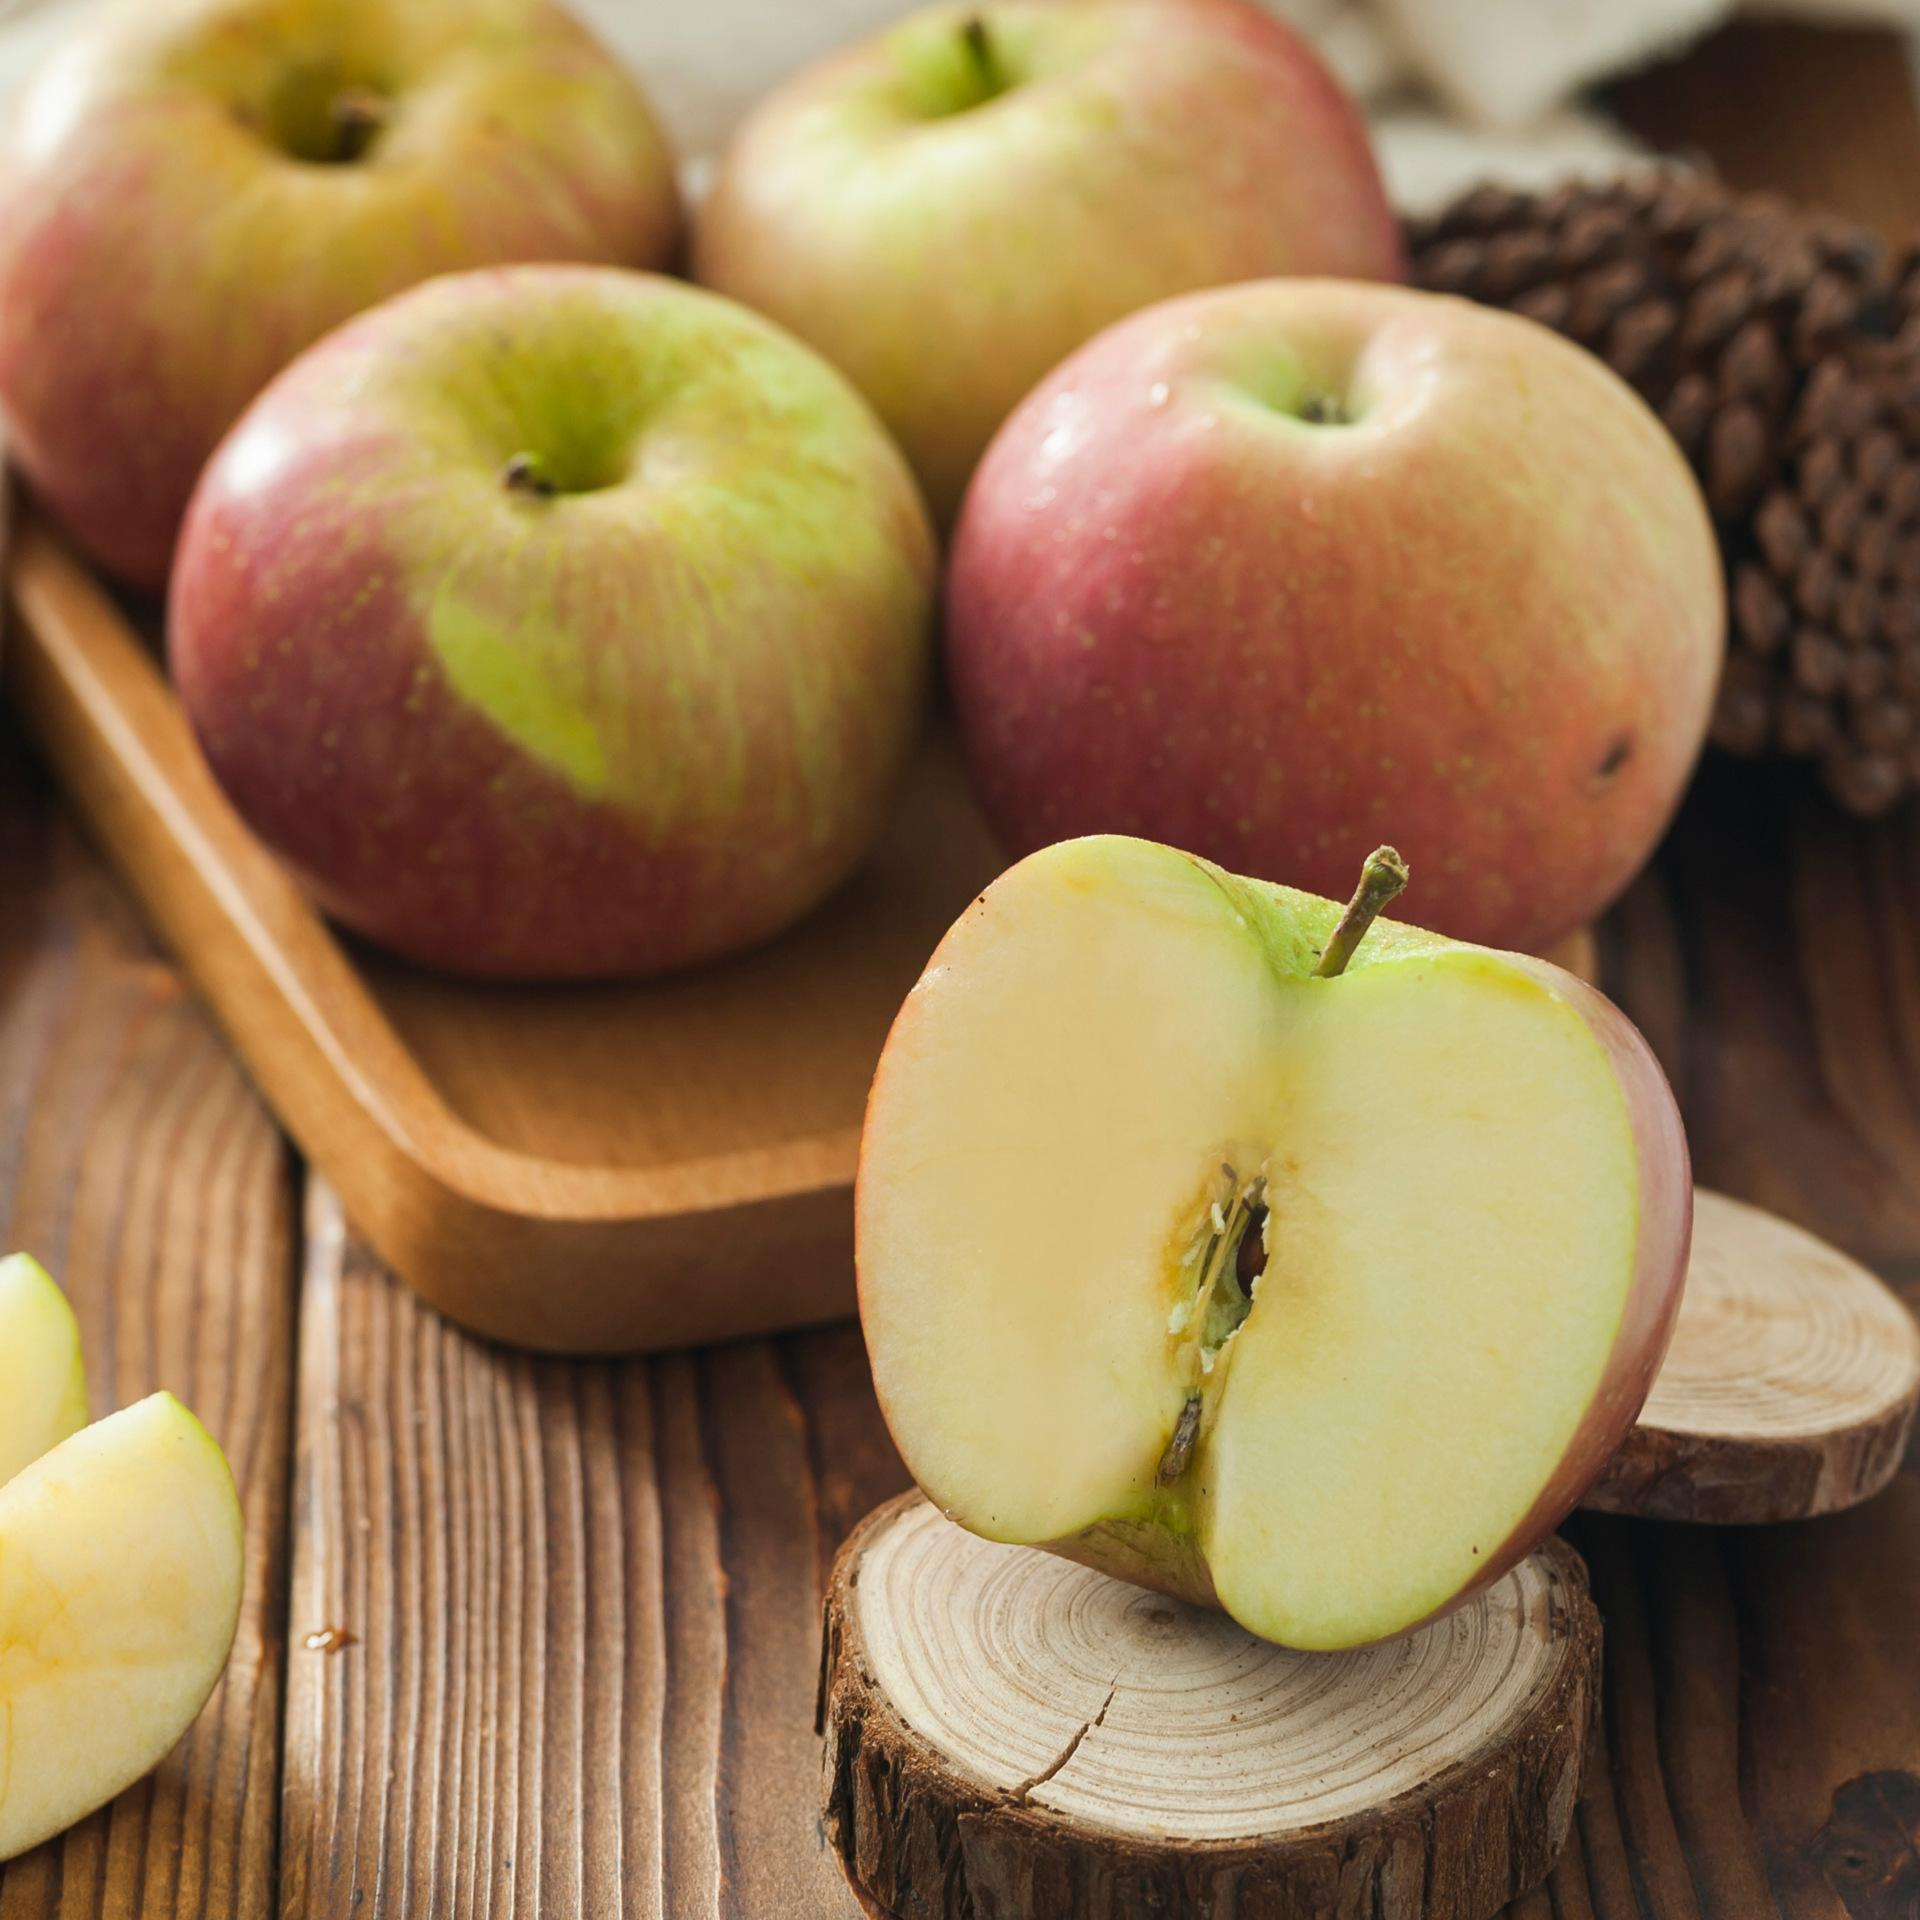apple: (842, 837, 1690, 1647), (167, 274, 946, 1007), (934, 280, 1728, 951), (2, 2, 675, 607), (702, 2, 1414, 499)
